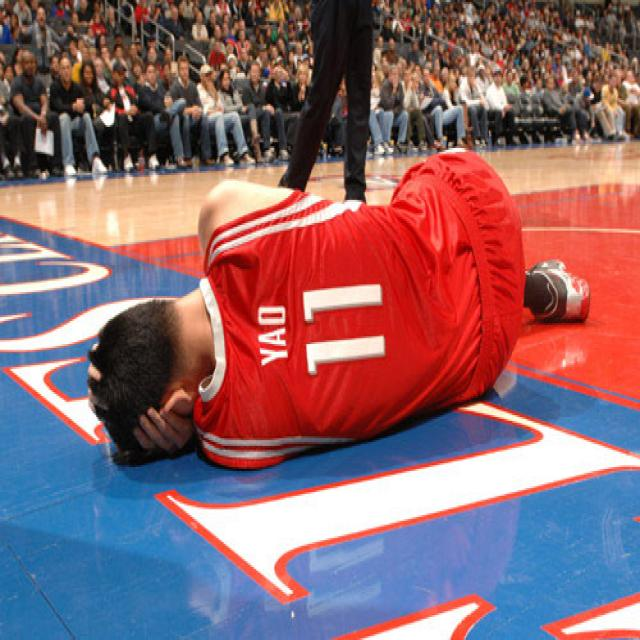10-: (1, 0, 636, 161)
down: (74, 142, 595, 467)
